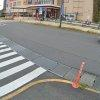crosswalks: (0, 35, 50, 99)
